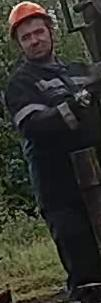helmet: (7, 1, 51, 39)
vest: (5, 58, 101, 203)
